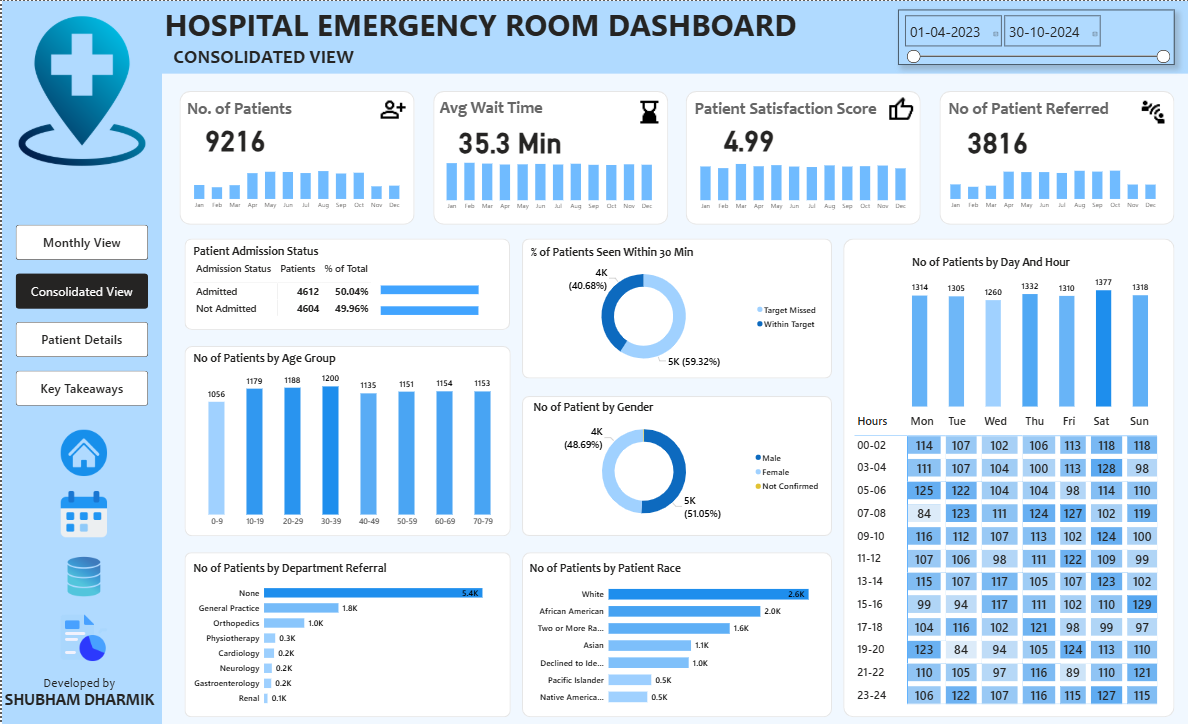

The page's visual inventory and layout, read from the dashboard file:
{"tool":"powerbi","page":{"name":"Consolidated View","canvas":[2300,1400],"ordinal":1},"visuals":[{"type":"shape","box":[0,0,309.6,1400.5],"z":0},{"type":"shape","box":[310.7,0,1989.8,140.5],"z":1000},{"type":"textbox","box":[309.6,0,1260.2,104],"z":2000},{"type":"shape","box":[343.5,174.2,455,258.8],"z":3000},{"type":"textbox","box":[326.5,79.8,399.1,60.5],"z":4000},{"type":"card","fields":{"Values":["Hospital ER_Data.No of Patients"]},"box":[377.3,227.4,147.5,72.6],"z":5000},{"type":"textbox","box":[353.1,183.8,224.9,55.6],"z":6000},{"type":"columnChart","fields":{"Category":["Date Table.Month"],"Y":["Hospital ER_Data.No of Patients"]},"box":[354.1,291.4,435.4,123],"z":7000},{"type":"shape","box":[833.9,174.2,454.7,258.8],"z":9000},{"type":"card","fields":{"Values":["Hospital ER_Data.Avg Wait Time"]},"box":[865.9,232.2,234.6,72.6],"z":10000},{"type":"textbox","box":[841.7,181.4,224.9,55.6],"z":11000},{"type":"columnChart","fields":{"Category":["Date Table.Month"],"Y":["Avg(Hospital ER_Data.Patient Waittime)"]},"box":[842.7,293.8,435.4,123],"z":12000},{"type":"shape","box":[1324,174.2,454.7,258.8],"z":13000},{"type":"card","fields":{"Values":["Hospital ER_Data.Satisfaction Score"]},"box":[1371.5,227.4,147.5,72.6],"z":14000},{"type":"textbox","box":[1335.2,183.8,365.2,55.6],"z":15000},{"type":"columnChart","fields":{"Category":["Date Table.Month"],"Y":["Hospital ER_Data.Satisfaction Score"]},"box":[1333.8,293.8,435.4,123],"z":16000},{"type":"shape","box":[1814.1,174.2,454.7,258.8],"z":17000},{"type":"card","fields":{"Values":["Hospital ER_Data.No of Patient Referred"]},"box":[1853.8,231.2,147.5,72.6],"z":18000},{"type":"shape","box":[353.1,459.6,630,177],"z":19000},{"type":"textbox","box":[1826.2,183.8,326.5,55.6],"z":20000},{"type":"columnChart","fields":{"Category":["Date Table.Month"],"Y":["Hospital ER_Data.No of Patient Referred"]},"box":[1816.1,290.4,435.4,123],"z":21000},{"type":"slicer","fields":{"Values":["Date Table.Date"]},"box":[1734.3,16.9,534.6,106.4],"z":22000},{"type":"pivotTable","title":"Patient Admission Status","fields":{"Rows":["Hospital ER_Data.Admission Status"],"Values":["Hospital ER_Data.No of Patients1","Hospital ER_Data.No of Patients"]},"box":[365.2,469.2,607.1,154.8],"z":23000},{"type":"barChart","fields":{"Category":["Hospital ER_Data.Admission Status"],"Y":["Hospital ER_Data.No of Patients"]},"box":[728.1,517.6,256.4,118.5],"z":24000},{"type":"shape","box":[353.1,667.6,631.3,368],"z":25000},{"type":"clusteredColumnChart","fields":{"Category":["Hospital ER_Data.Age Group"],"Y":["Hospital ER_Data.No of Patients"]},"box":[365.2,677.3,616.8,350.7],"z":26000},{"type":"shape","box":[353.1,1066.7,631.3,319.3],"z":27000},{"type":"clusteredBarChart","fields":{"Category":["Hospital ER_Data.Department Referral"],"Y":["Hospital ER_Data.No of Patients"]},"box":[365.2,1083.6,597.4,292.7],"z":28000},{"type":"shape","box":[1006.2,459.6,599.9,270.9],"z":29000},{"type":"donutChart","title":"% of Patients Seen Within 30 Min","fields":{"Category":["Hospital ER_Data.Waittime Status"],"Y":["Hospital ER_Data.No of Patients"]},"box":[1018.3,471.7,570.8,249.1],"z":30000},{"type":"shape","box":[1006.2,763.7,599.9,270.9],"z":31000},{"type":"donutChart","title":"No of Patient by Gender","fields":{"Y":["Hospital ER_Data.No of Patients"],"Category":["Hospital ER_Data.Patient Gender"]},"box":[1023.2,771,570.8,249.1],"z":32000},{"type":"shape","box":[1006.2,1066.7,599.9,319.3],"z":33000},{"type":"clusteredBarChart","fields":{"Y":["Hospital ER_Data.No of Patients"],"Category":["Hospital ER_Data.Patient Race"]},"box":[1014.9,1083.6,579.1,292.7],"z":34000},{"type":"shape","box":[1627.9,459.6,641,926.4],"z":35000},{"type":"pivotTable","fields":{"Rows":["Hospital ER_Data.Waittime Interval"],"Columns":["Date Table.Day Name"],"Values":["Hospital ER_Data.No of Patients"]},"box":[1644.8,791,609.5,585.4],"z":36000},{"type":"columnChart","title":"No of Patients by Day And Hour","fields":{"Category":["Date Table.Day Name"],"Y":["Hospital ER_Data.No of Patients"]},"box":[1756.1,491,469.2,299.9],"z":37000},{"type":"image","box":[1707.7,179,62.9,62.9],"z":38000},{"type":"image","box":[725.6,179,62.9,62.9],"z":39000},{"type":"image","box":[2196.3,183.8,62.9,62.9],"z":40000},{"type":"image","box":[1221.5,183.8,62.9,62.9],"z":41000},{"type":"image","box":[4.8,23.7,299.9,299.9],"z":42000},{"type":"pageNavigator","box":[26.6,433,256.4,353.1],"z":42001},{"type":"image","box":[108.8,824.8,99.2,99.2],"z":42002},{"type":"image","box":[108.8,944.1,99.2,99.2],"z":42003},{"type":"image","box":[108.8,1063.5,99.2,99.2],"z":42004},{"type":"image","box":[108.8,1182.8,99.2,99.2],"z":42005},{"type":"textbox","box":[75,1298.9,159.6,48.4],"z":42006},{"type":"textbox","box":[0,1327.9,326.5,58.1],"z":42007}]}

Visuals, with their boxes in screenshot pixels (x1, y1, x2, y2), scaled from the page's 2300x1400 canvas onto the 1188x724 screenshot:
shape: [x1=0, y1=0, x2=160, y2=723]
shape: [x1=160, y1=0, x2=1187, y2=73]
textbox: [x1=160, y1=0, x2=811, y2=54]
shape: [x1=177, y1=90, x2=412, y2=224]
textbox: [x1=169, y1=41, x2=375, y2=73]
card - Hospital ER_Data.No of Patients: [x1=195, y1=118, x2=271, y2=155]
textbox: [x1=182, y1=95, x2=299, y2=124]
columnChart - Date Table.Month x Hospital ER_Data.No of Patients: [x1=183, y1=151, x2=408, y2=214]
shape: [x1=431, y1=90, x2=666, y2=224]
card - Hospital ER_Data.Avg Wait Time: [x1=447, y1=120, x2=568, y2=158]
textbox: [x1=435, y1=94, x2=551, y2=123]
columnChart - Date Table.Month x Avg(Hospital ER_Data.Patient Waittime): [x1=435, y1=152, x2=660, y2=216]
shape: [x1=684, y1=90, x2=919, y2=224]
card - Hospital ER_Data.Satisfaction Score: [x1=708, y1=118, x2=785, y2=155]
textbox: [x1=690, y1=95, x2=878, y2=124]
columnChart - Date Table.Month x Hospital ER_Data.Satisfaction Score: [x1=689, y1=152, x2=914, y2=216]
shape: [x1=937, y1=90, x2=1172, y2=224]
card - Hospital ER_Data.No of Patient Referred: [x1=958, y1=120, x2=1034, y2=157]
shape: [x1=182, y1=238, x2=508, y2=329]
textbox: [x1=943, y1=95, x2=1112, y2=124]
columnChart - Date Table.Month x Hospital ER_Data.No of Patient Referred: [x1=938, y1=150, x2=1163, y2=214]
slicer - Date Table.Date: [x1=896, y1=9, x2=1172, y2=64]
"Patient Admission Status" pivotTable: [x1=189, y1=243, x2=502, y2=323]
barChart - Hospital ER_Data.Admission Status x Hospital ER_Data.No of Patients: [x1=376, y1=268, x2=509, y2=329]
shape: [x1=182, y1=345, x2=508, y2=536]
clusteredColumnChart - Hospital ER_Data.Age Group x Hospital ER_Data.No of Patients: [x1=189, y1=350, x2=507, y2=532]
shape: [x1=182, y1=552, x2=508, y2=717]
clusteredBarChart - Hospital ER_Data.Department Referral x Hospital ER_Data.No of Patients: [x1=189, y1=560, x2=497, y2=712]
shape: [x1=520, y1=238, x2=830, y2=378]
"% of Patients Seen Within 30 Min" donutChart: [x1=526, y1=244, x2=821, y2=373]
shape: [x1=520, y1=395, x2=830, y2=535]
"No of Patient by Gender" donutChart: [x1=529, y1=399, x2=823, y2=528]
shape: [x1=520, y1=552, x2=830, y2=717]
clusteredBarChart - Hospital ER_Data.No of Patients x Hospital ER_Data.Patient Race: [x1=524, y1=560, x2=823, y2=712]
shape: [x1=841, y1=238, x2=1172, y2=717]
pivotTable - Hospital ER_Data.Waittime Interval x Date Table.Day Name: [x1=850, y1=409, x2=1164, y2=712]
"No of Patients by Day And Hour" columnChart: [x1=907, y1=254, x2=1149, y2=409]
image: [x1=882, y1=93, x2=915, y2=125]
image: [x1=375, y1=93, x2=407, y2=125]
image: [x1=1134, y1=95, x2=1167, y2=128]
image: [x1=631, y1=95, x2=663, y2=128]
image: [x1=2, y1=12, x2=157, y2=167]
pageNavigator: [x1=14, y1=224, x2=146, y2=407]
image: [x1=56, y1=427, x2=107, y2=478]
image: [x1=56, y1=488, x2=107, y2=540]
image: [x1=56, y1=550, x2=107, y2=601]
image: [x1=56, y1=612, x2=107, y2=663]
textbox: [x1=39, y1=672, x2=121, y2=697]
textbox: [x1=0, y1=687, x2=169, y2=717]
